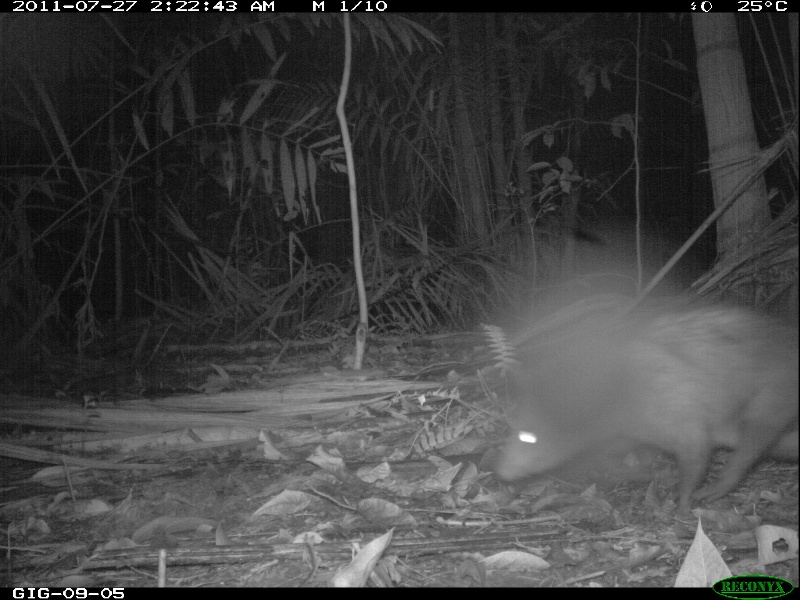opossum: (484, 303, 800, 508)
